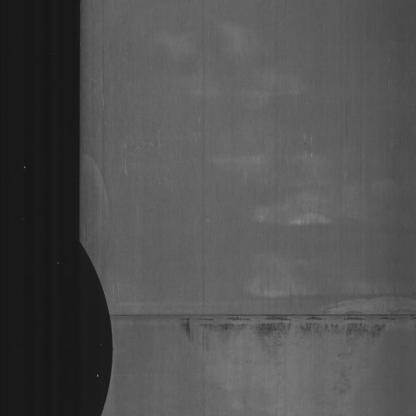welding_line: (97, 303, 416, 327)
